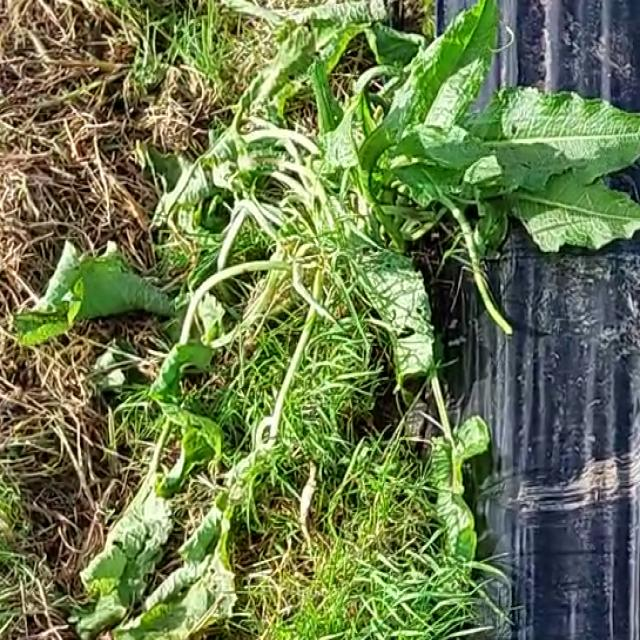organic waste: (132, 15, 598, 338), (224, 0, 632, 289), (59, 363, 293, 640), (0, 174, 289, 379)
